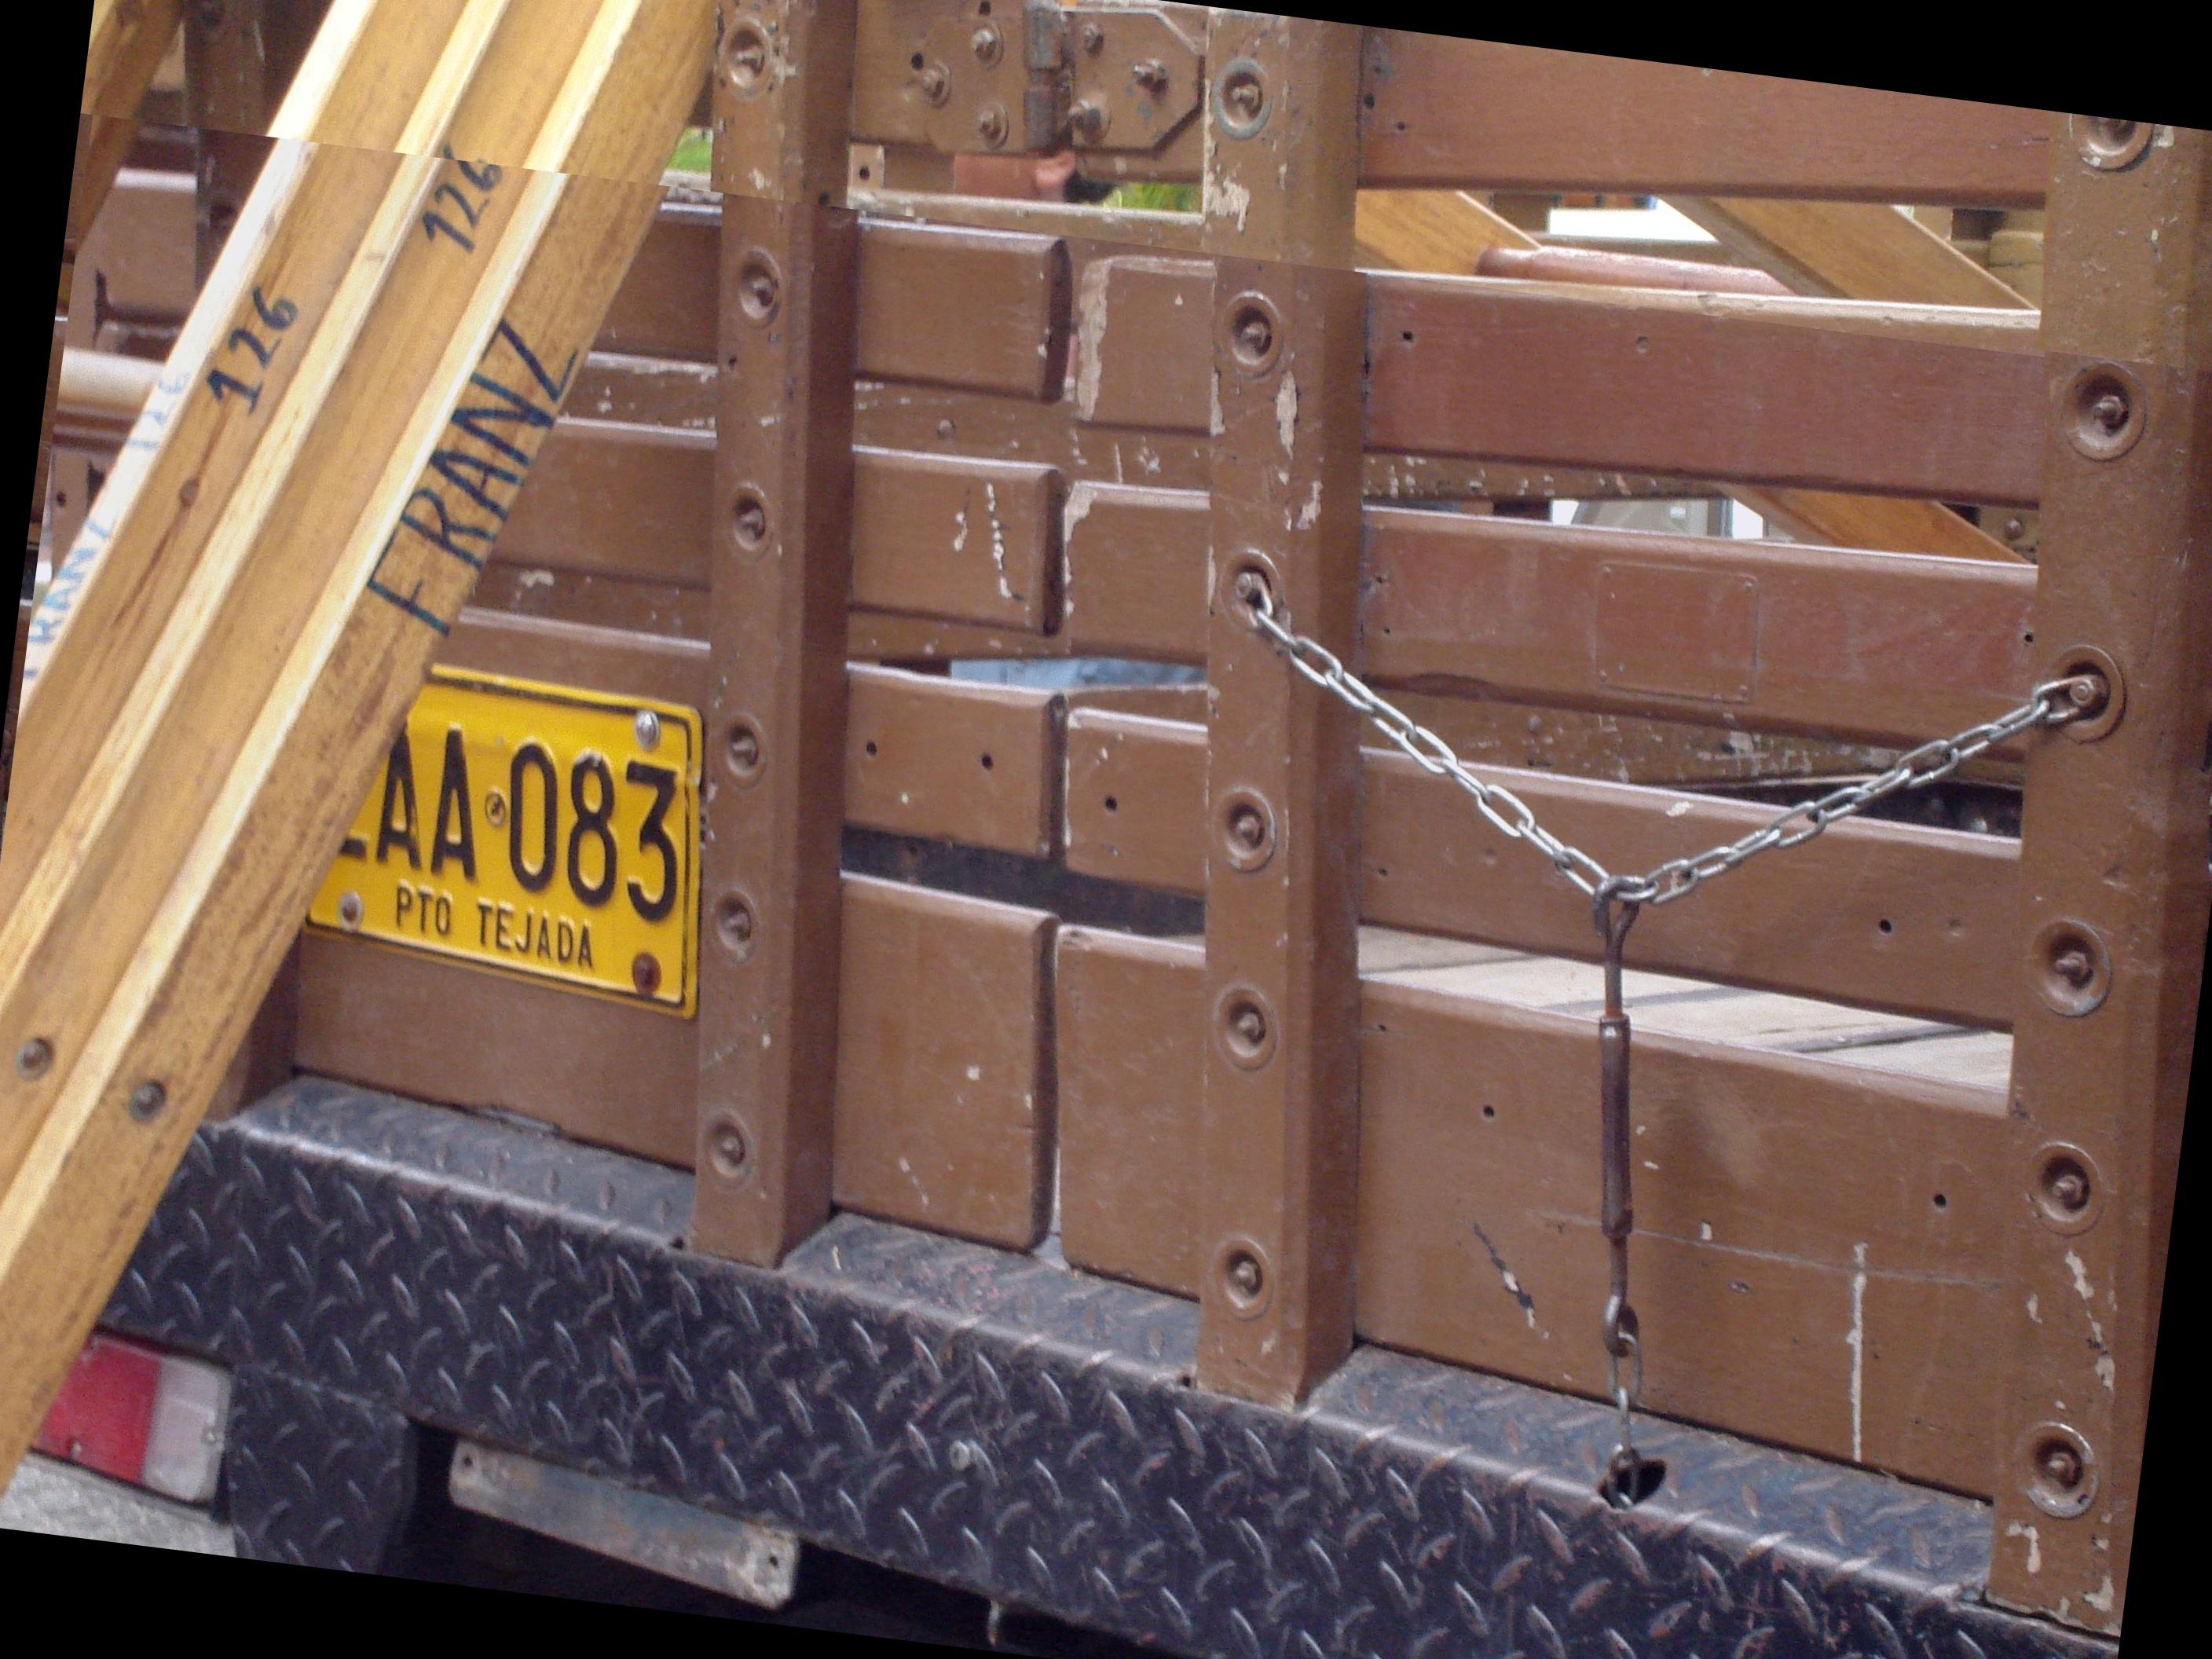placas: (247, 639, 742, 1027)
